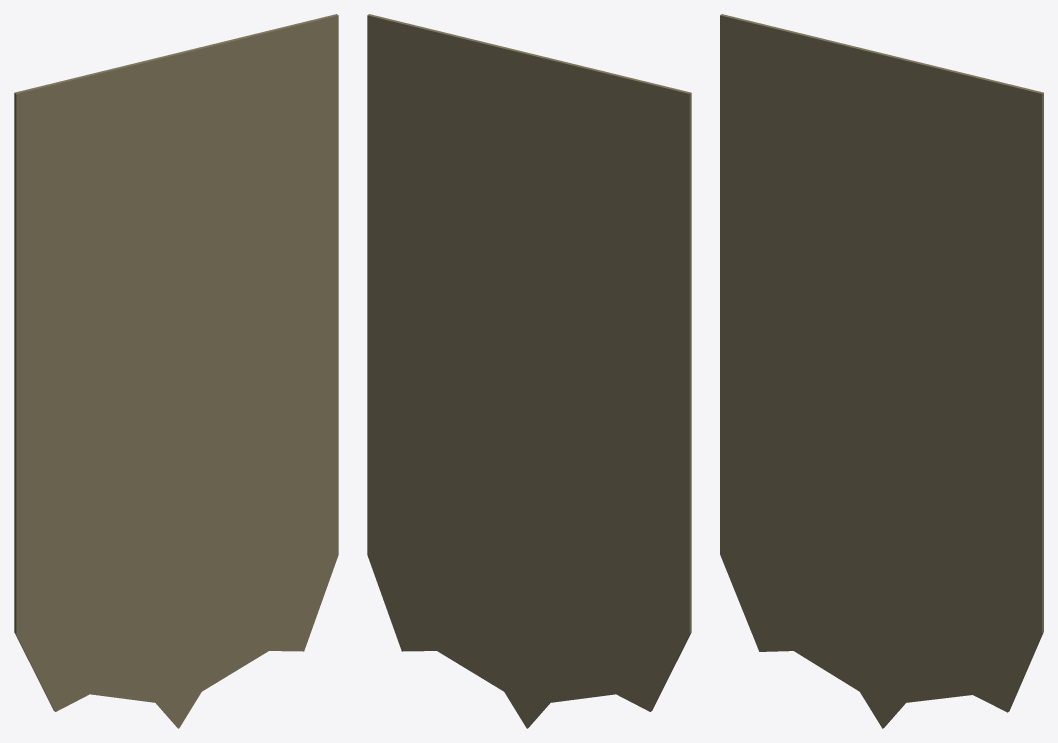
The model's file is aedeco_banner_halfpoint.obj.
3 renders of one model, left to right at view 1: azimuth 30°, elevation 25°; view 2: azimuth 150°, elevation 25°; view 3: azimuth 330°, elevation 25°, orthographic.
Visible parts, largest first — view 1: Mesh1 Group1 Model; view 2: Mesh1 Group1 Model; view 3: Mesh1 Group1 Model.
Boxes of the visible parts, x1,y1,x2,y2 form: Mesh1 Group1 Model: [14, 14, 338, 728]; Mesh1 Group1 Model: [367, 14, 691, 728]; Mesh1 Group1 Model: [720, 14, 1043, 728].
Bounding box in the file's own units: 1 × 2 × 0.01.
